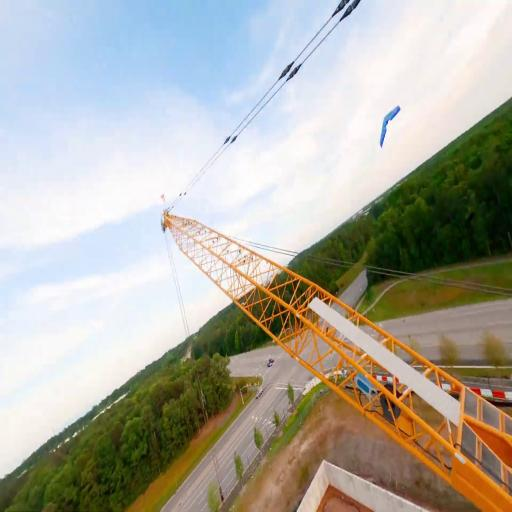uav: (376, 102, 402, 154)
